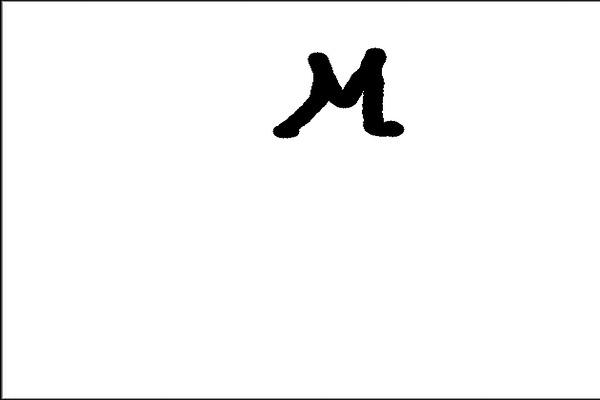M: (271, 41, 404, 148)
